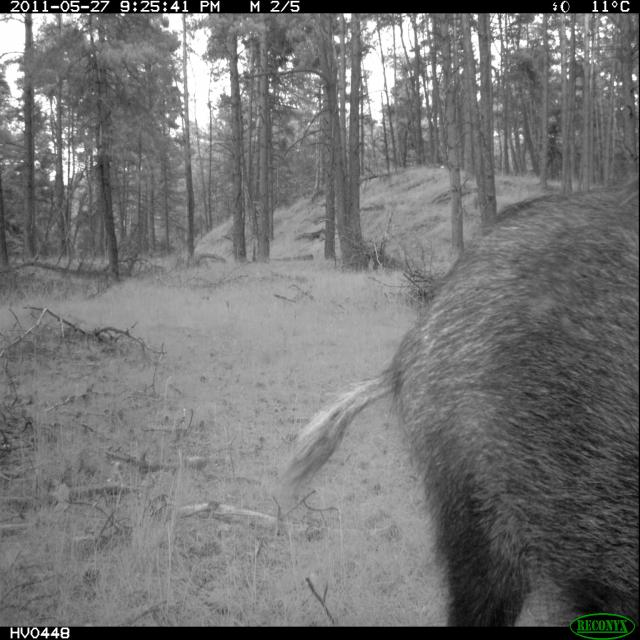boar: (178, 195, 637, 638)
